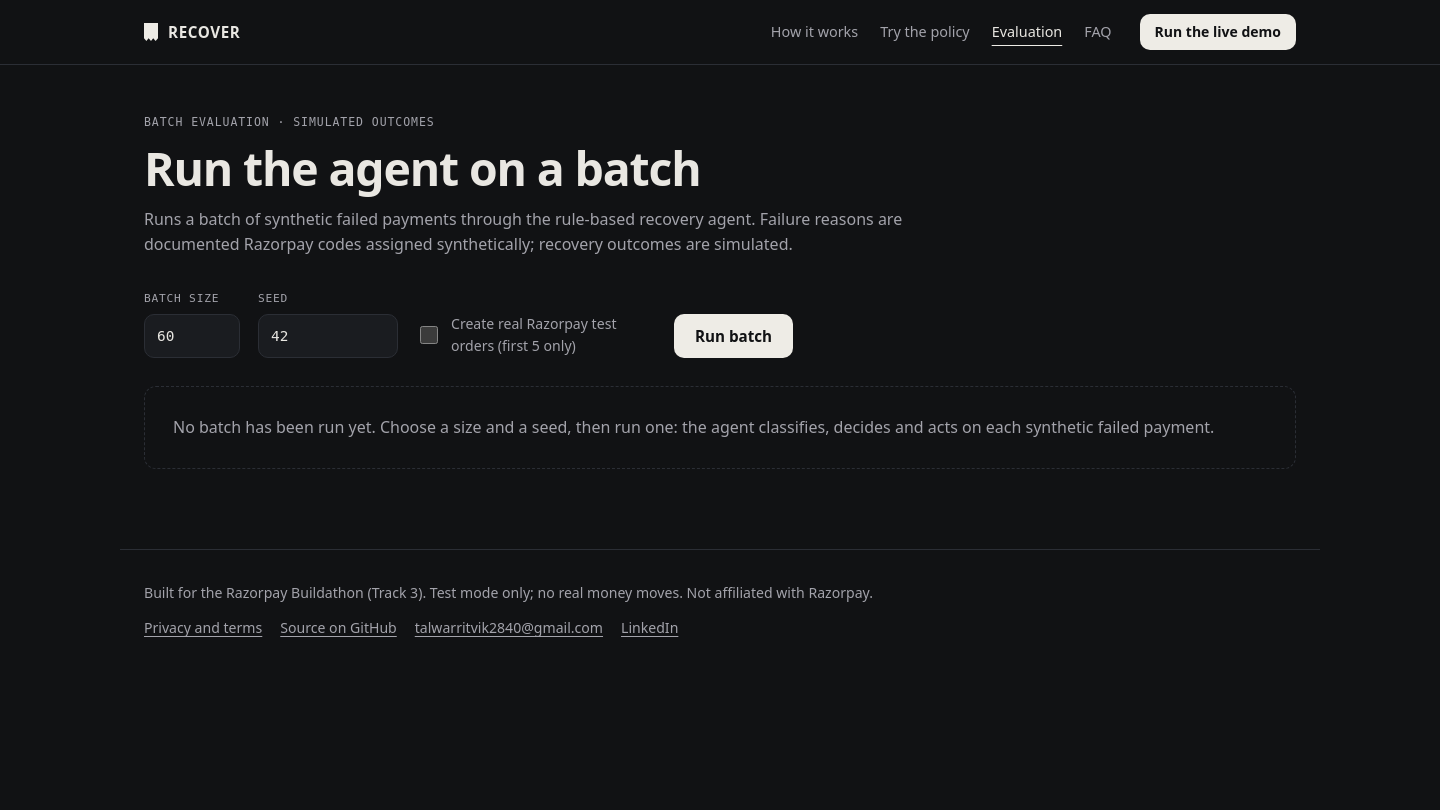
Test: Dashboard › shows the server's error message when a run fails
This screenshot has width=1440, height=810.
expect the text "No batch has been run yet" is shown: met, box [173,416,1214,438]
Click the button "Run batch": (734, 336) [674,314,793,358]
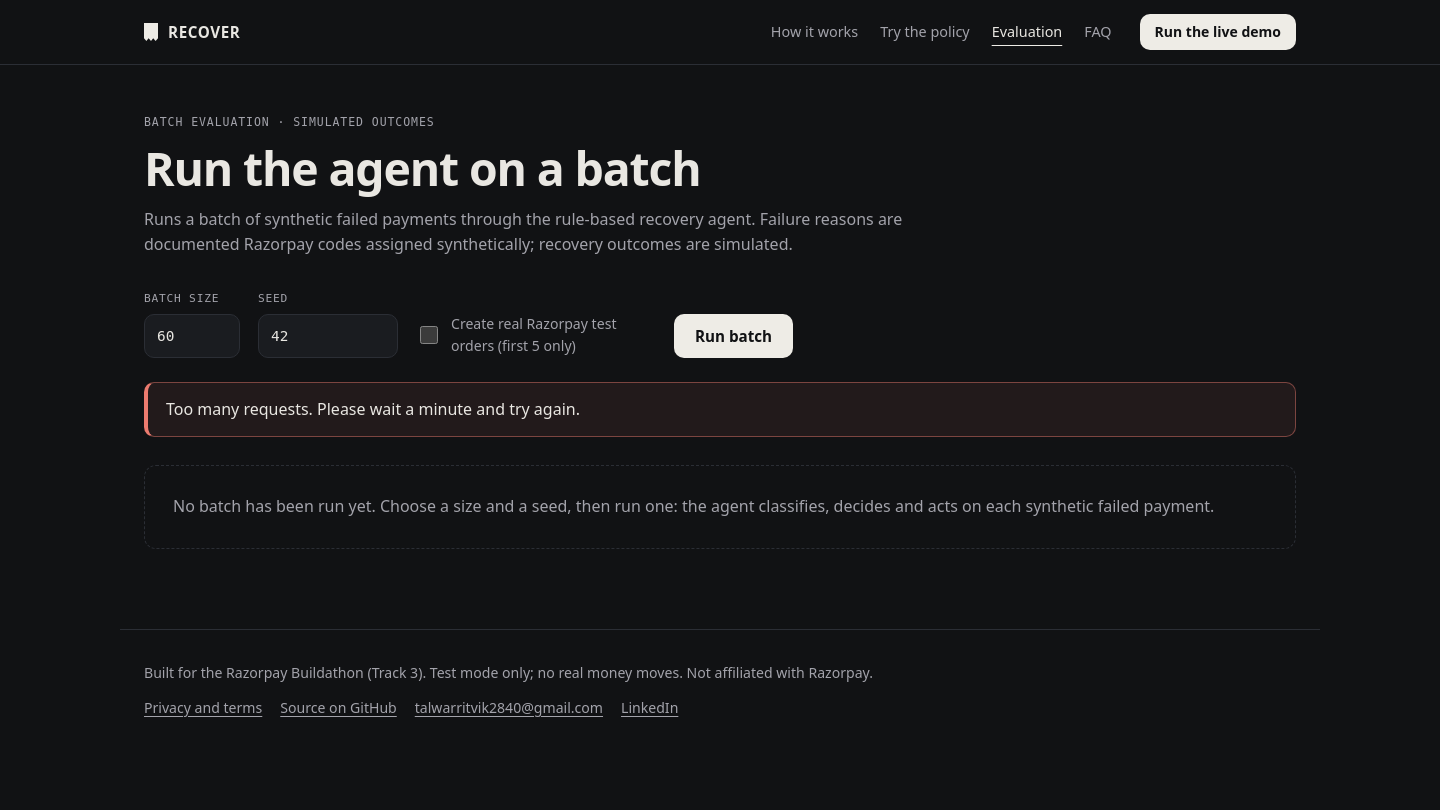
expect the text "Too many requests. Please wait a minute and try again." is shown: met, box [144,382,1296,438]
